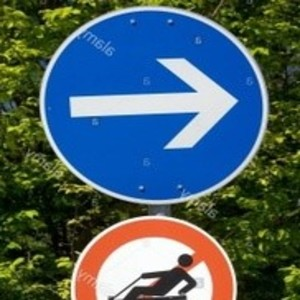trun_right: (37, 7, 272, 206)
